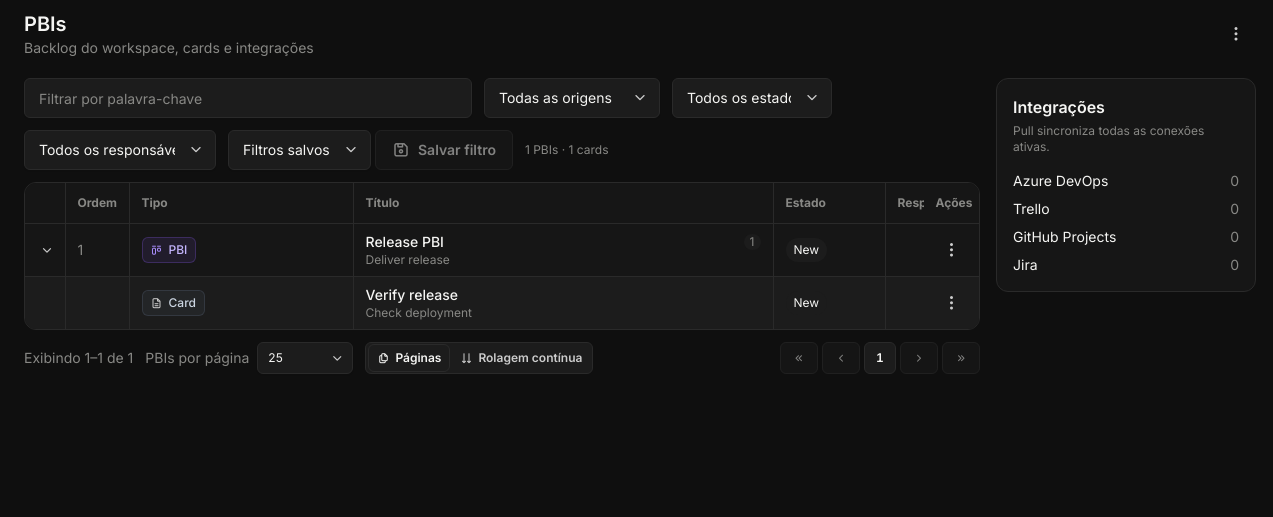
Test case: PbiView coverage gaps: rows and search › creates an issue without opening the issues view
Expected: the button "Release PBI" is shown, 366,232 -> 736,252
Click the button named "Ações: Release PBI": [952, 250] box 932,230 -> 972,270
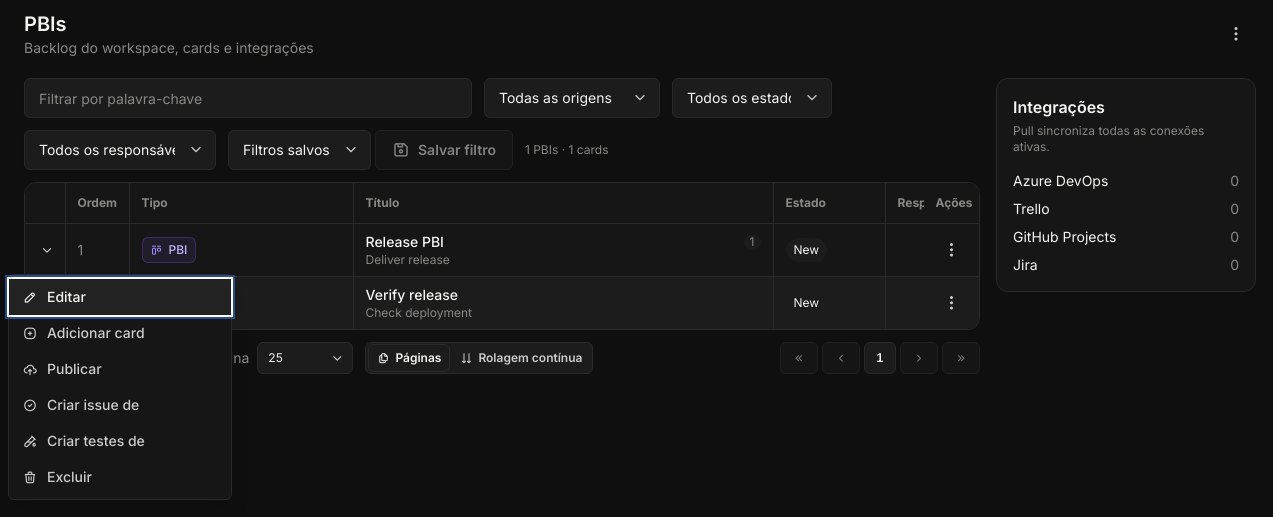
Click the menu item "Criar issue de": [120, 405] box 9,387 -> 231,423
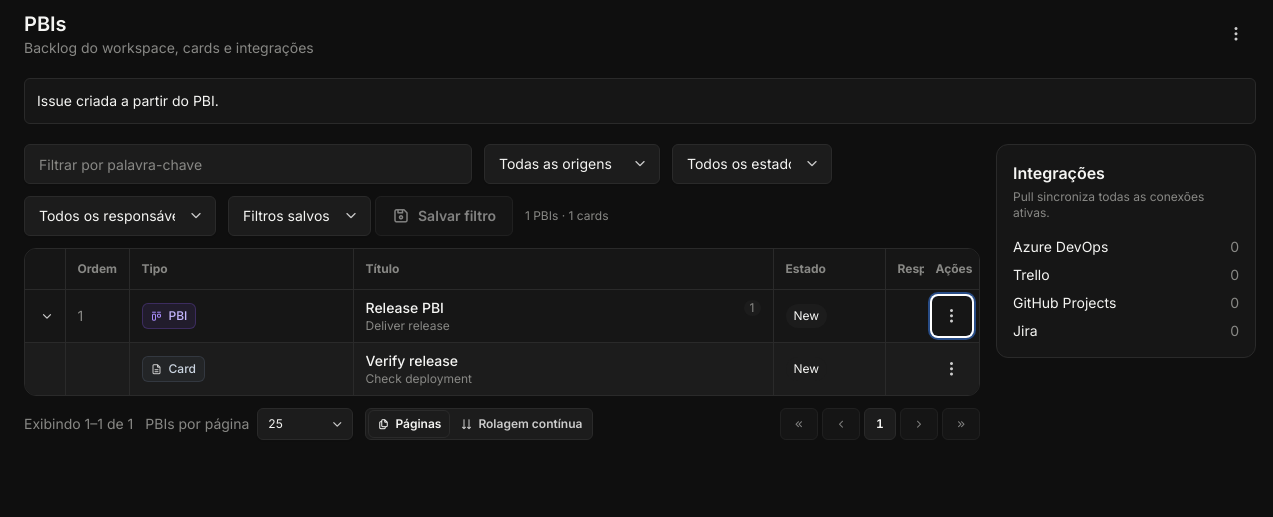
Expected: the text "Issue criada a partir do PBI." is shown, 24,78 -> 1256,124
